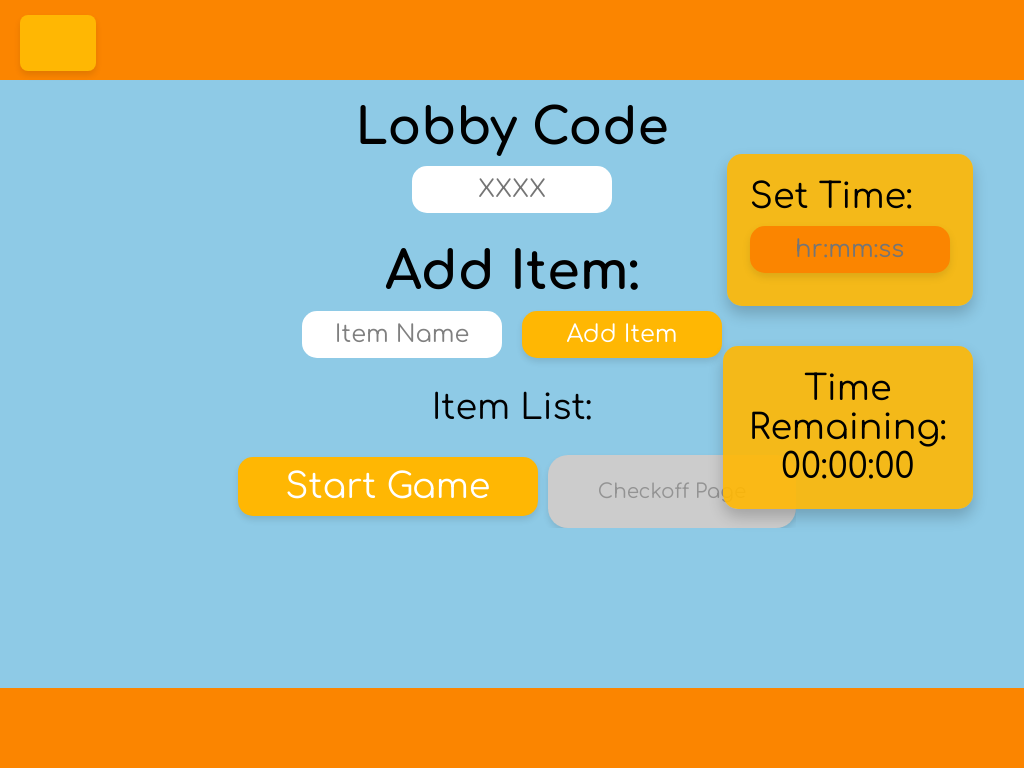
Test: Test Host View Screen › creates game with one item
This screenshot has width=1024, height=768.
Step 1. Type "1234" into the field with placeholder "XXXX" → (512, 190), box [412,166,612,213]
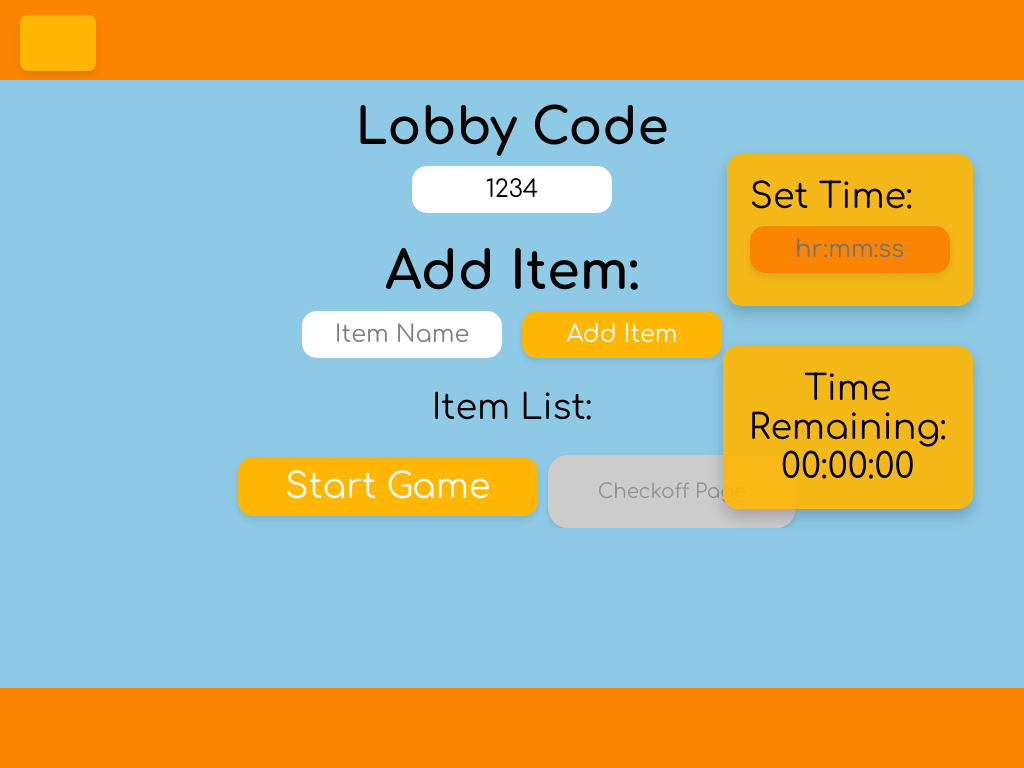
Step 2. Type "00:05:00" into the field with placeholder "hr:mm:ss" → (850, 249), box [750,226,950,273]
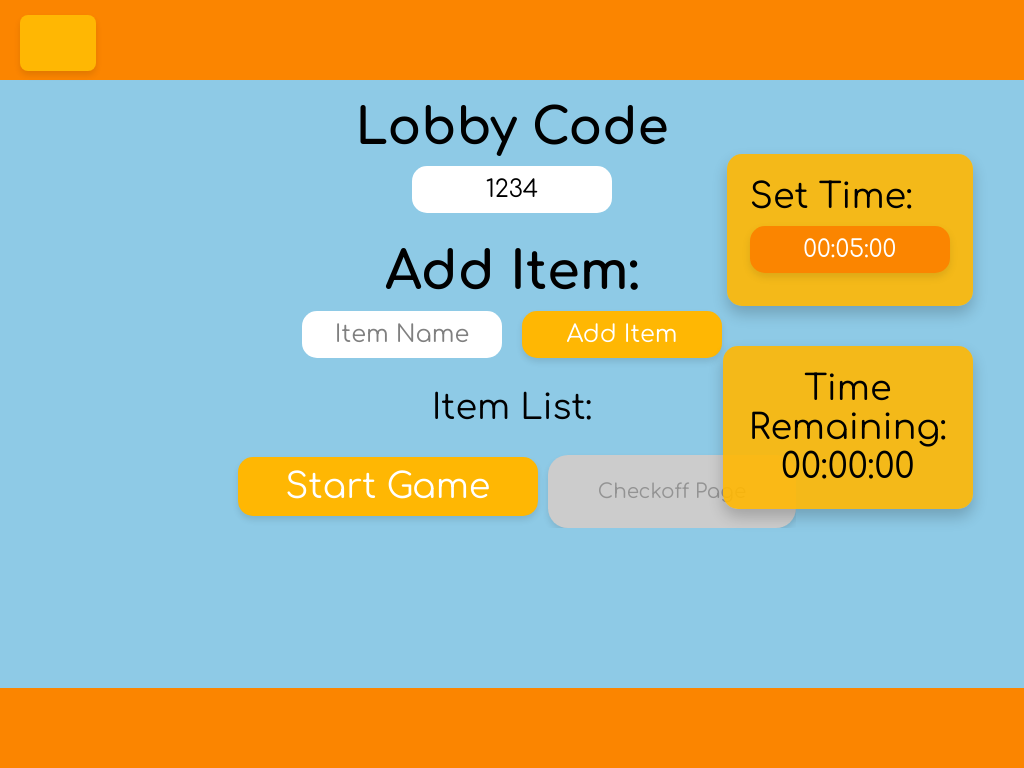
Check: the button "Add Item" is shown, box [522,311,722,358]
Step 3. Type "Triton Statue" into the field with placeholder "Item Name" → (402, 334), box [302,311,502,358]
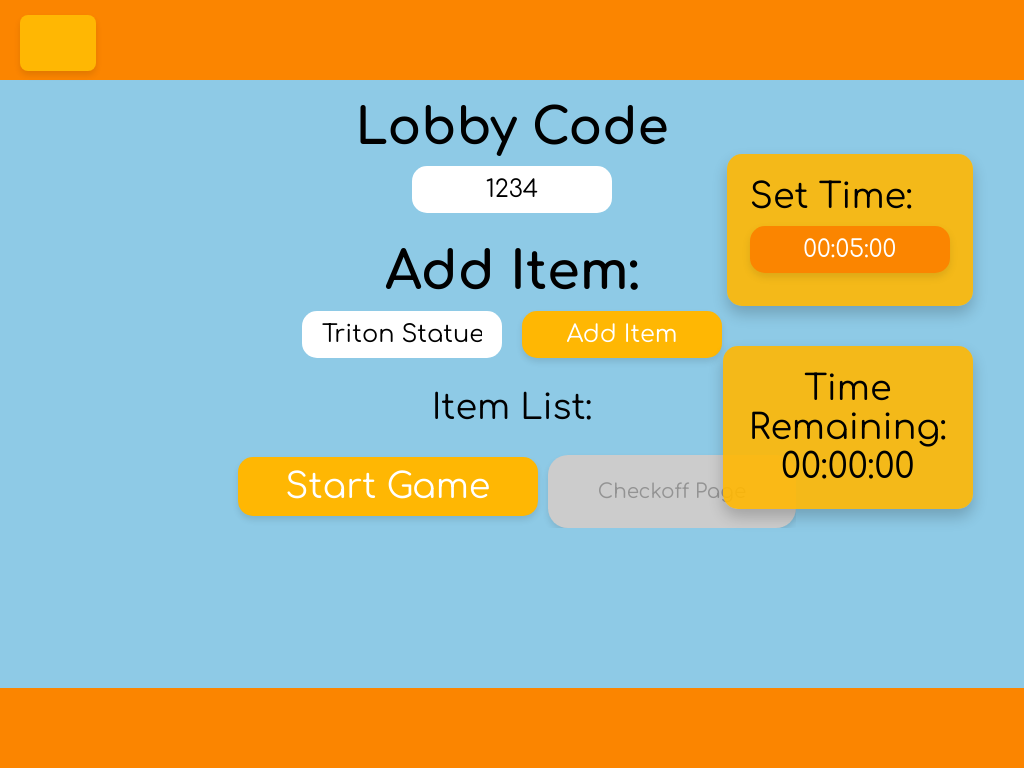
Step 4. Click the button "Add Item" → (622, 334), box [522,311,722,358]
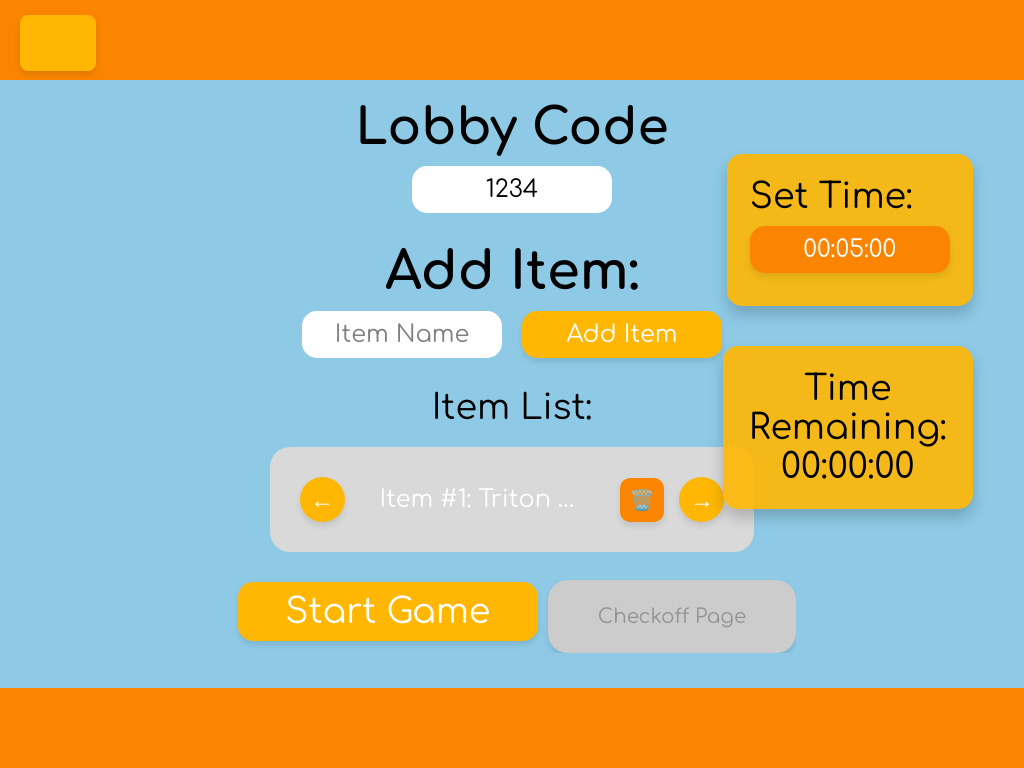
Check: the text "Item #1: Triton Statue" is shown, box [380,486,580,513]
Step 5. Click the button "Start Game" → (388, 612), box [238,582,538,641]
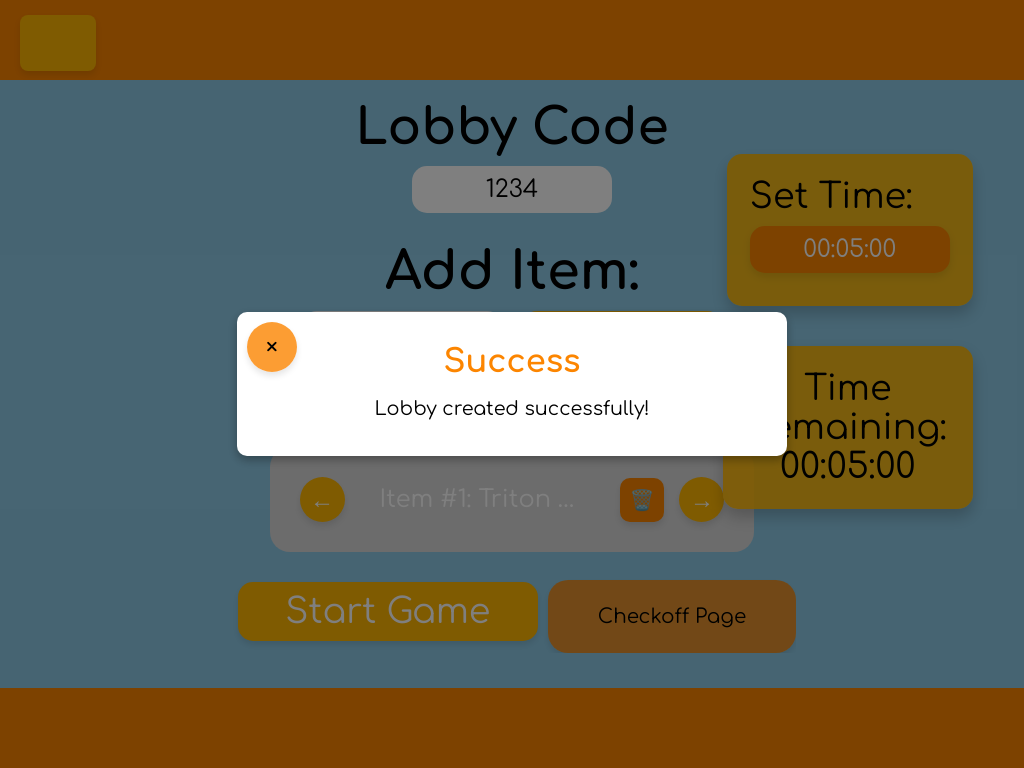
Check: the text "Lobby created successfully!" is shown, box [374,398,650,419]
